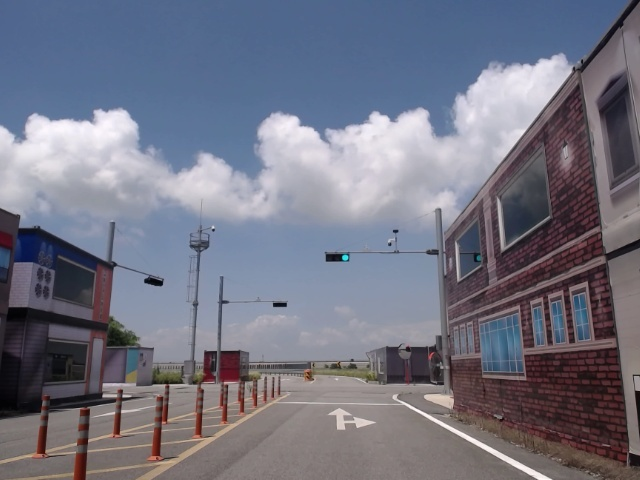green_3: (326, 254, 349, 261)
